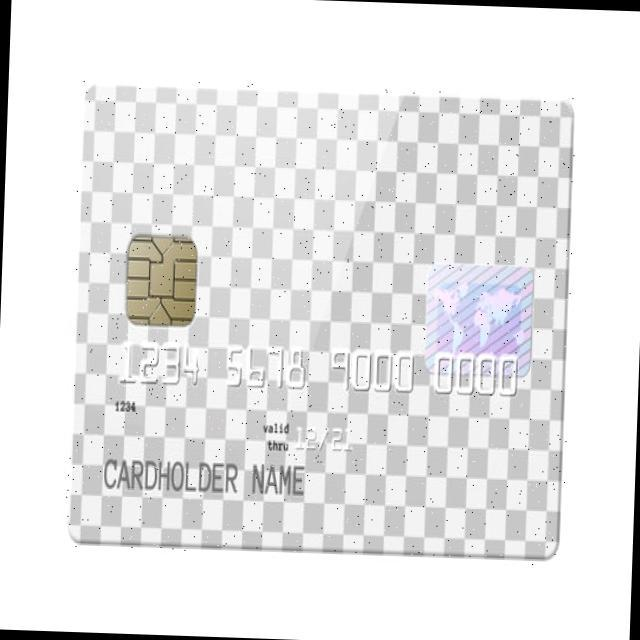payment_card: (68, 83, 574, 559)
